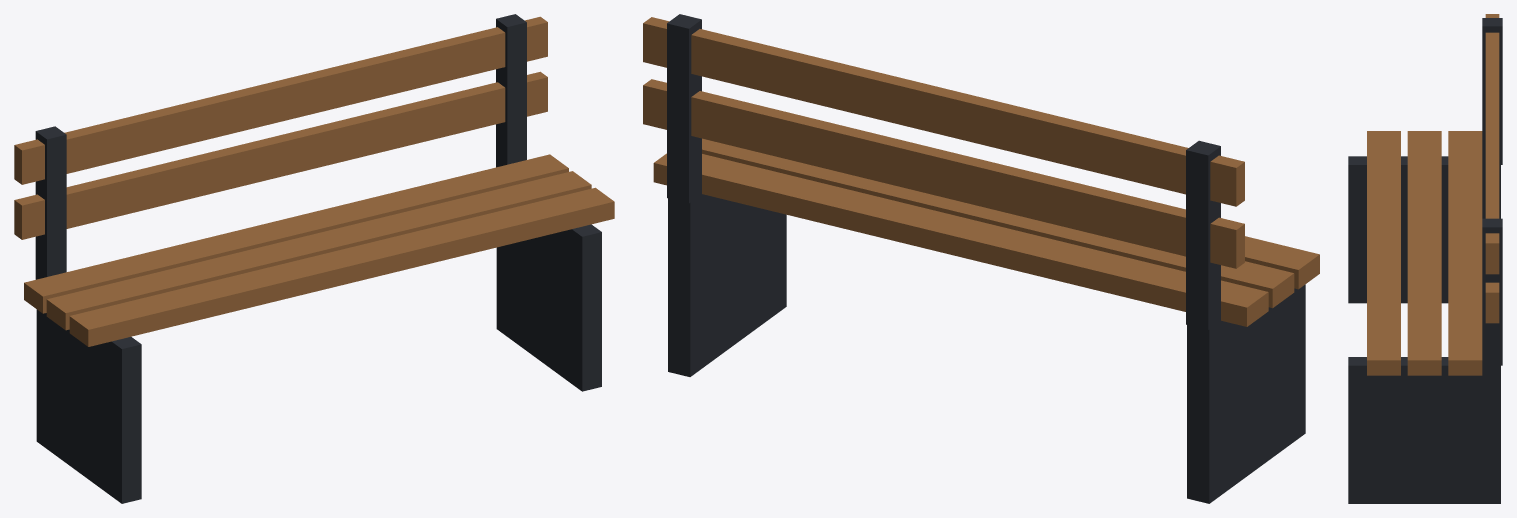
Rendered from bench.glb.
The picture shows the model from 3 angles, left to right: view 1: azimuth 30°, elevation 25°; view 2: azimuth 150°, elevation 25°; view 3: azimuth 270°, elevation 25°; orthographic projection. The views are drawn at different scales.
Bounding box in the file's own units: 1.6 × 0.9 × 0.455.
